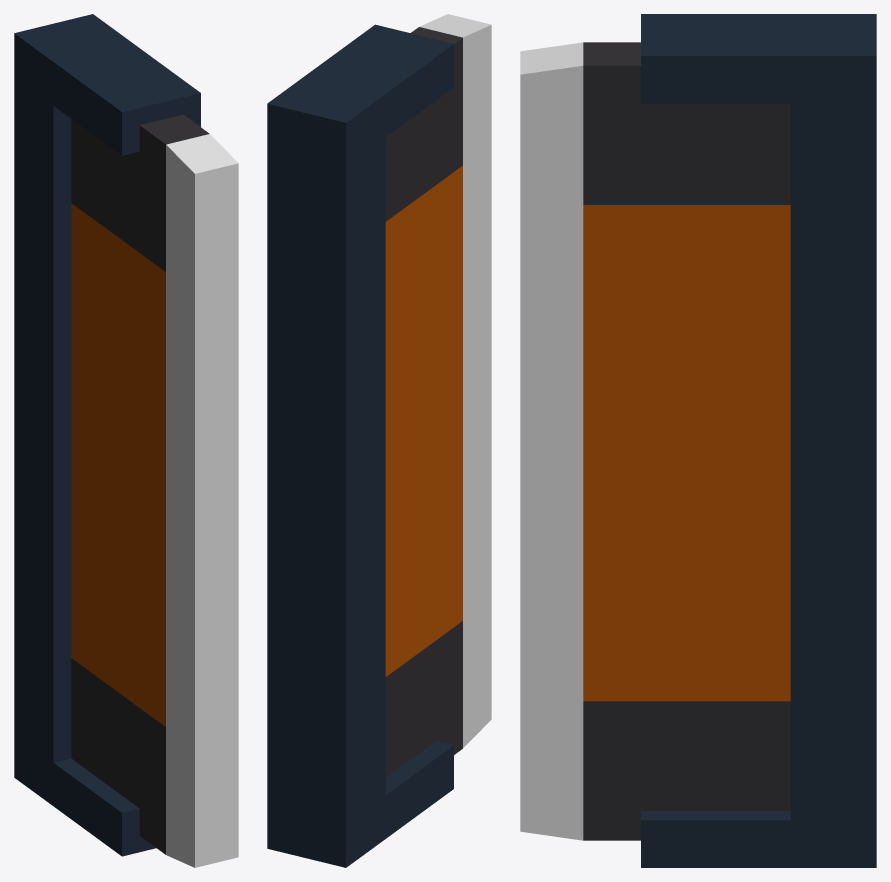
The model's file is ram_1.glb.
3 views of the same model, side by side, from view 1: azimuth 30°, elevation 25°; view 2: azimuth 150°, elevation 25°; view 3: azimuth 270°, elevation 25° (orthographic). The views are drawn at different scales.
Visible parts, largest first — view 1: Cube.108, Cube.079, Cube.109; view 2: Cube.079, Cube.108, Cube.109; view 3: Cube.108, Cube.079, Cube.109.
Part boxes in pixels (box(x1,y1,x2,y2)): Cube.108: box(71, 114, 209, 854); Cube.079: box(14, 14, 200, 856); Cube.109: box(166, 134, 238, 867); Cube.079: box(267, 24, 453, 867); Cube.108: box(385, 27, 462, 777); Cube.109: box(419, 14, 491, 748); Cube.108: box(583, 42, 790, 840); Cube.079: box(641, 14, 876, 867); Cube.109: box(520, 42, 583, 840).
Size of the model in its own units: 0.0203 by 0.1832 by 0.0728.
2 materials, 1 textured.
